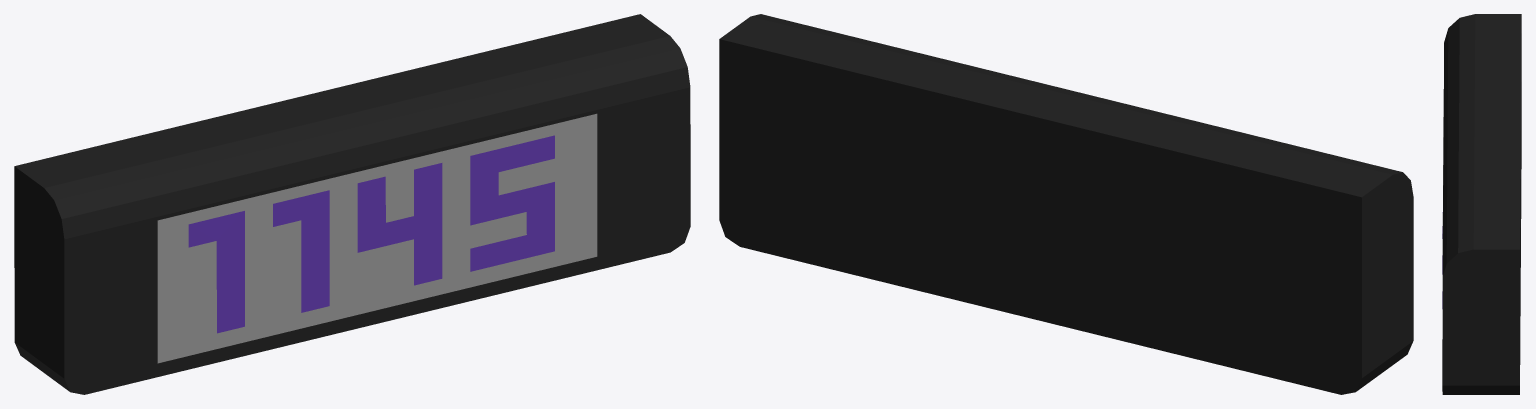
Rendered from Clock3.fbx.
3 views of the same model, side by side, from view 1: azimuth 30°, elevation 25°; view 2: azimuth 150°, elevation 25°; view 3: azimuth 270°, elevation 25° (orthographic). The views are drawn at different scales.
Parts seen in each view (by area): view 1: Clock3; view 2: Clock3; view 3: Clock3.
Part boxes in pixels (x1=…): Clock3: x1=14, y1=14, x2=690, y2=394; Clock3: x1=719, y1=14, x2=1413, y2=394; Clock3: x1=1442, y1=14, x2=1521, y2=394.
Size of the model in its own units: 23.36 by 7.04 by 3.32.
